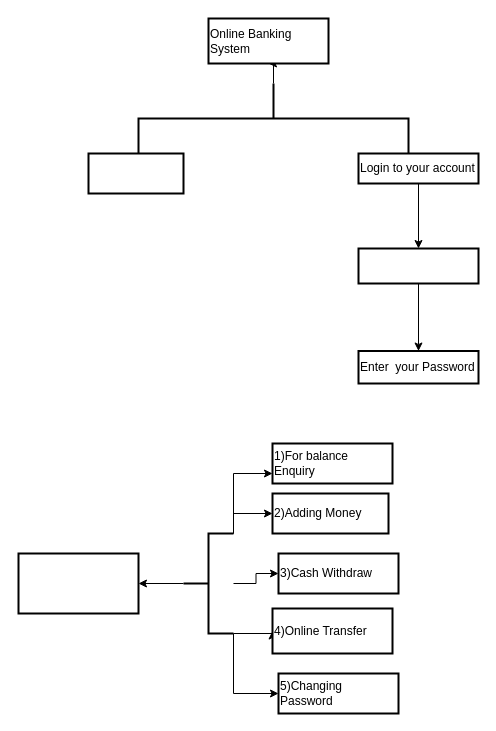
This 496x731 diagram has some shape labels left out. The centre of each missing label's shape, as x and y in pixels:
After Login: point 78,583
Enter You Mobile Number: point 418,265
Register Your Account: point 135,173
